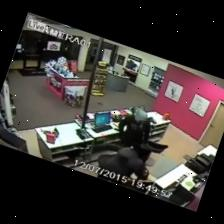person: (97, 144, 148, 185), (118, 109, 150, 147)
